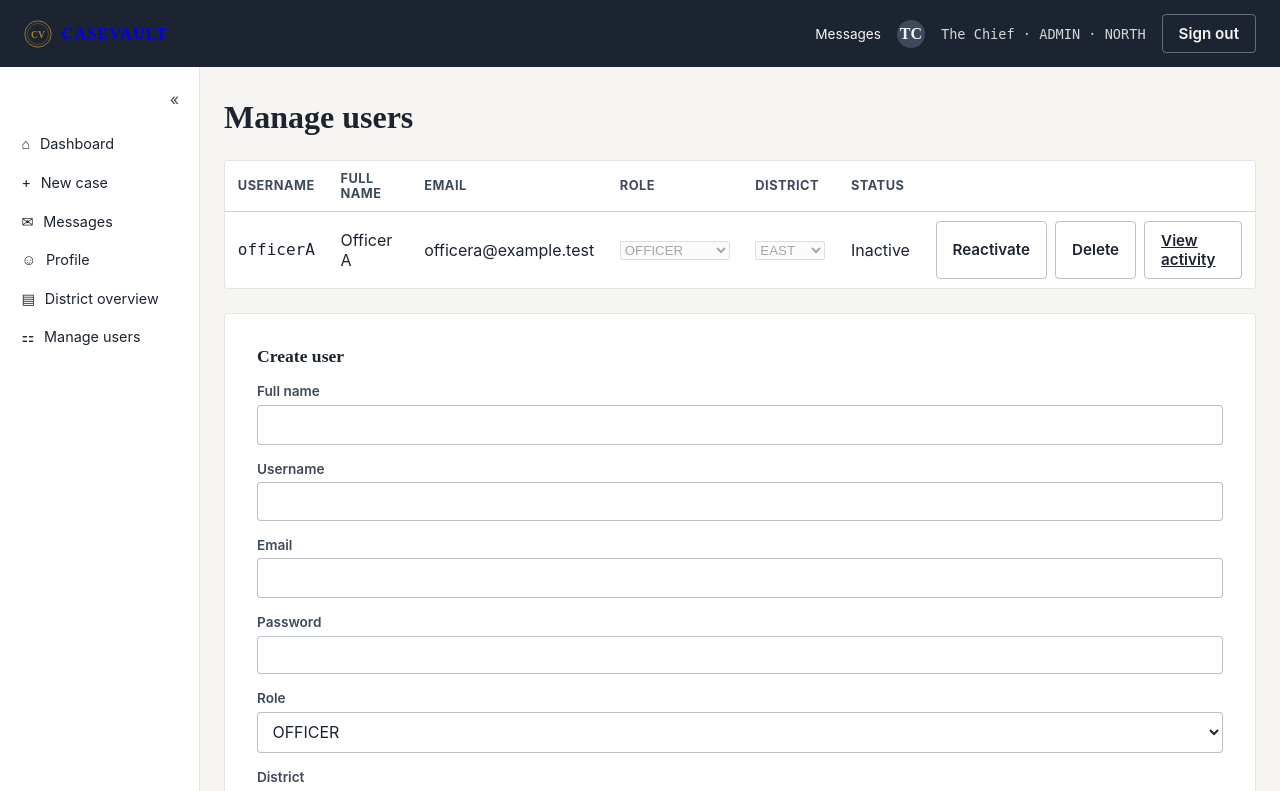
it: ManageUsersPage › reactivates a deactivated user
Expected: the text "officerA" is shown, [225,211,328,288]
Click the button with aria-label "reactivate officera": (991, 250) [936,221,1047,279]
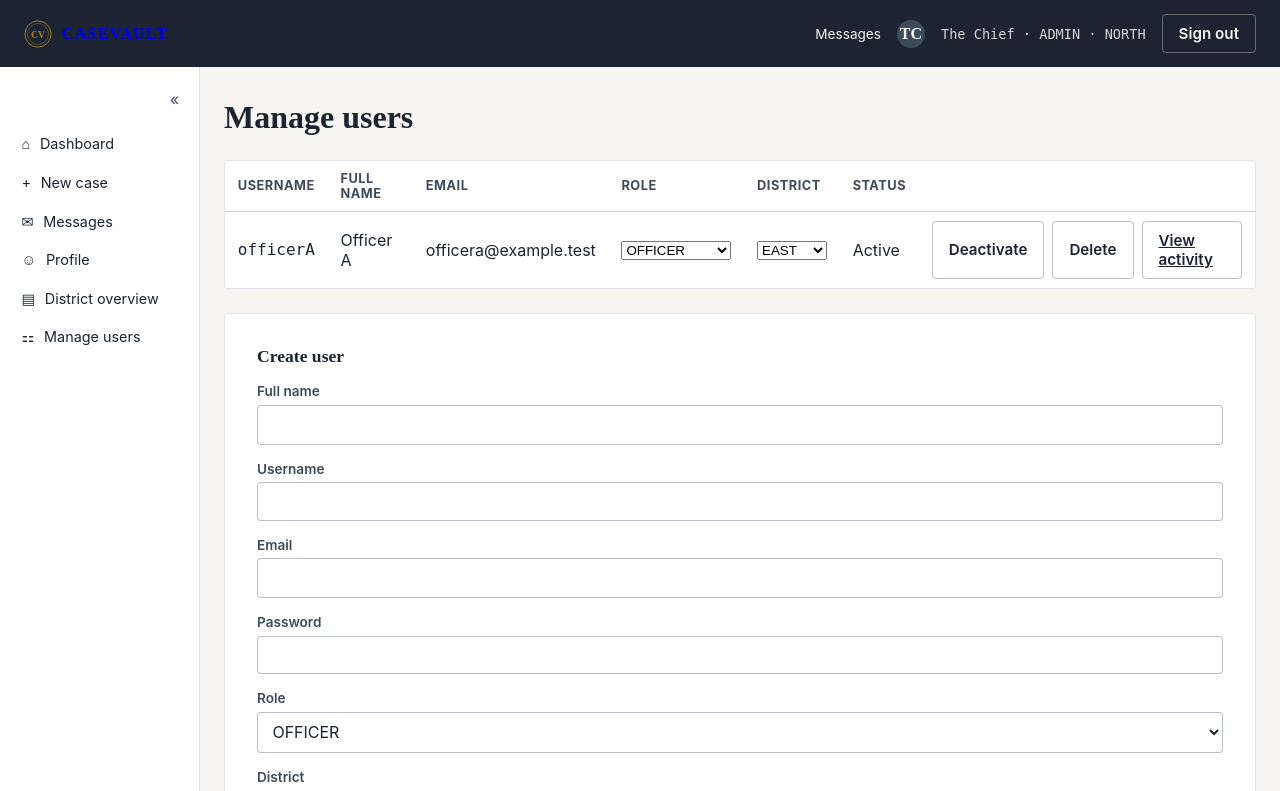
Result: the text "Active" is shown at [840,211,919,288]
